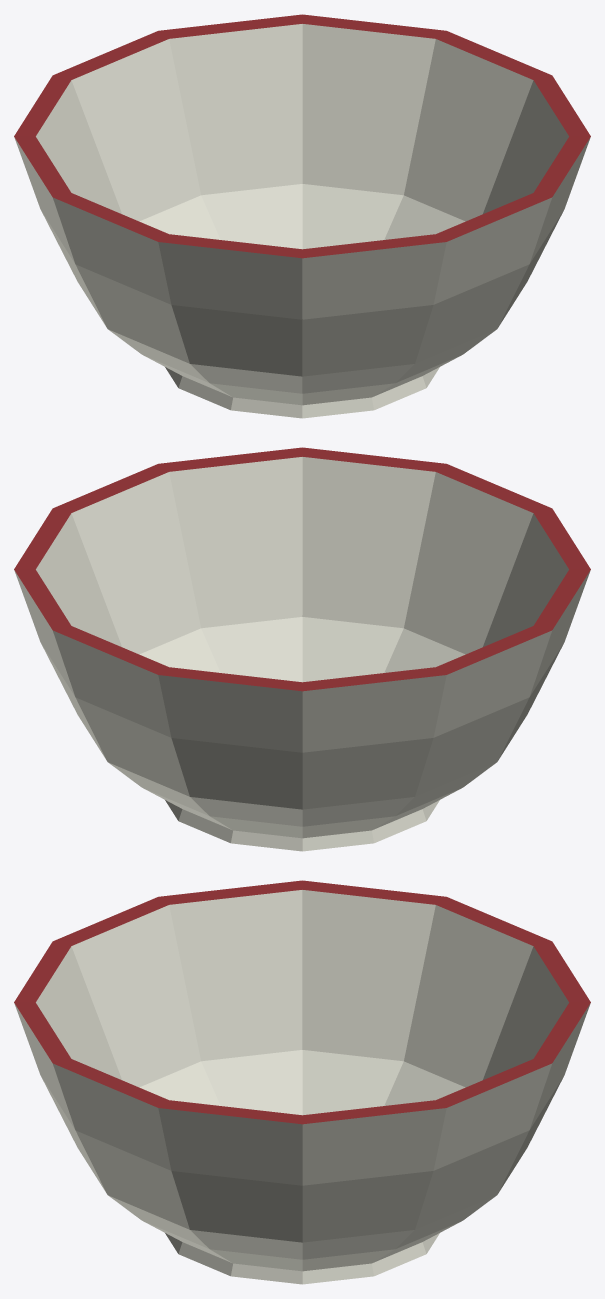
The model's file is Bowl_small.fbx.
The picture shows the model from 3 angles, top to bottom: view 1: azimuth 30°, elevation 25°; view 2: azimuth 150°, elevation 25°; view 3: azimuth 270°, elevation 25°; orthographic projection.
Parts seen in each view (by area): view 1: Bowl_small; view 2: Bowl_small; view 3: Bowl_small.
Boxes of the visible parts, box(x1,y1,x2,y2) form: Bowl_small: box(14, 14, 590, 418); Bowl_small: box(14, 447, 590, 851); Bowl_small: box(14, 880, 590, 1284).
Size of the model in its own units: 0.1589 by 0.0673 by 0.1589.
